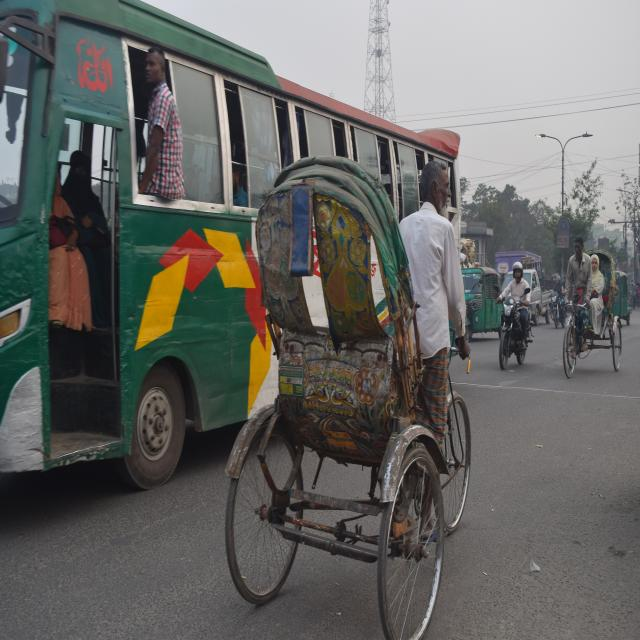bus: (10, 10, 455, 464)
motorbike: (500, 262, 537, 376), (543, 270, 579, 335)
